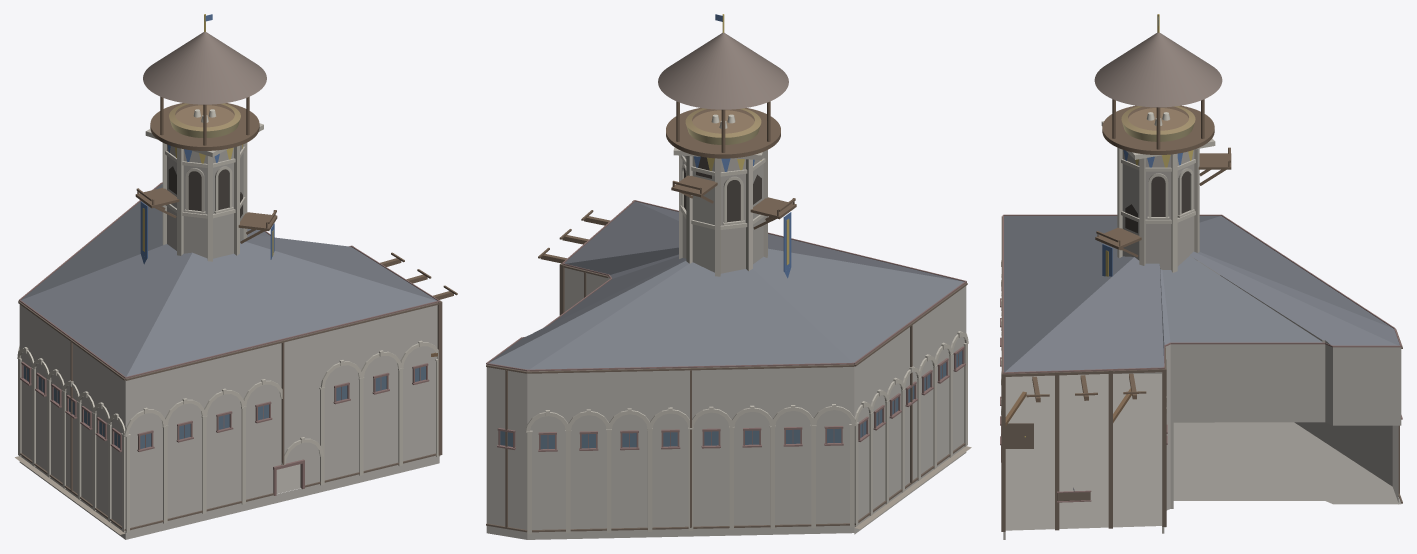
Rendered from bird01.glb.
The picture shows the model from 3 angles, left to right: view 1: azimuth 30°, elevation 25°; view 2: azimuth 150°, elevation 25°; view 3: azimuth 270°, elevation 25°; orthographic projection. The views are drawn at different scales.
Parts seen in each view (by area): view 1: BIRD01_visible; view 2: BIRD01_visible; view 3: BIRD01_visible.
Part boxes in pixels (bbox=[...]): BIRD01_visible: bbox=[15, 14, 457, 539]; BIRD01_visible: bbox=[486, 14, 971, 539]; BIRD01_visible: bbox=[1000, 14, 1402, 539].
Bounding box in the file's own units: 32.53 × 38.48 × 31.53.
